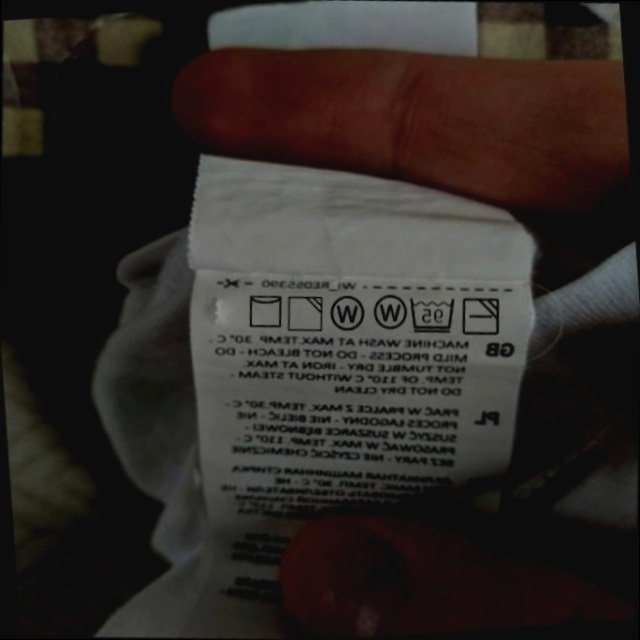95C: (405, 292, 459, 337)
dry_flat_in_shade: (459, 292, 504, 340)
line_dry: (242, 288, 287, 332)
shade_dry: (283, 291, 327, 336)
wet_clean: (326, 292, 368, 336), (368, 288, 409, 333)
